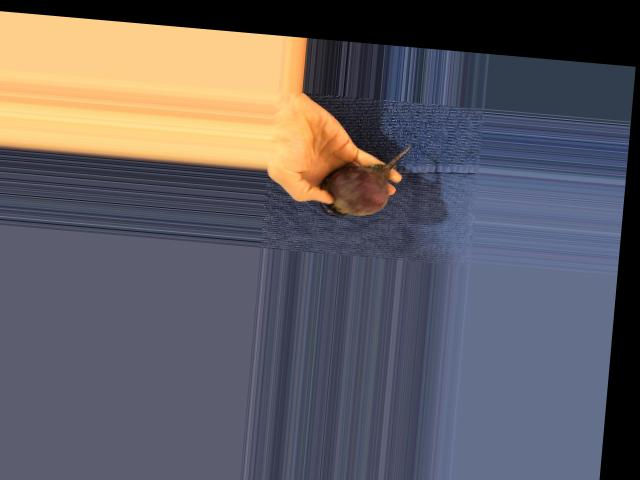beet: (318, 137, 411, 223)
